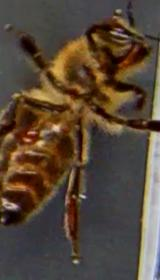varroa_mite: (14, 119, 46, 155)
